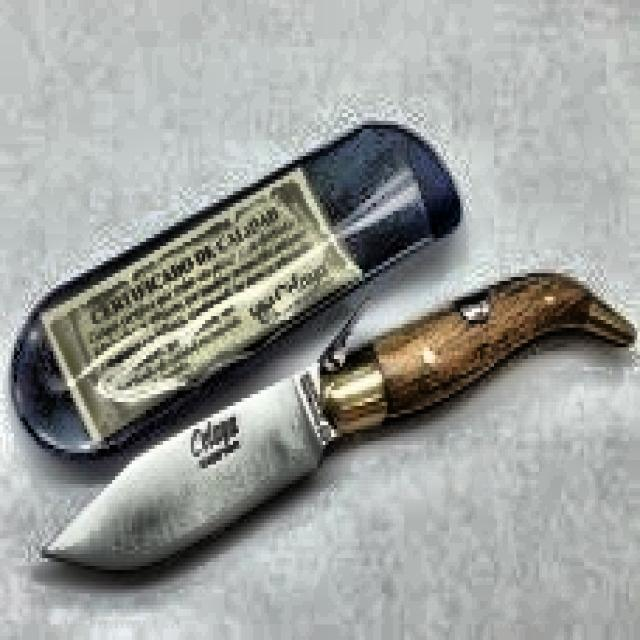knife: (43, 272, 635, 572)
